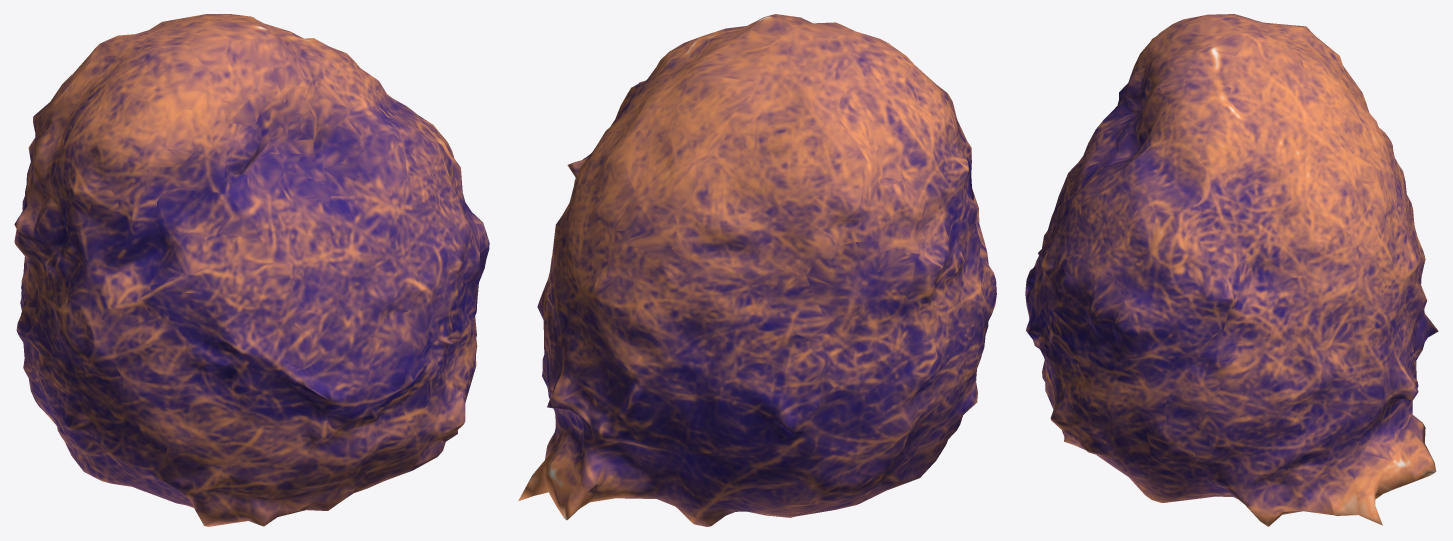
File: oeuf2.fbx
3 views of the same model, side by side, from view 1: azimuth 30°, elevation 25°; view 2: azimuth 150°, elevation 25°; view 3: azimuth 270°, elevation 25° (orthographic). The views are drawn at different scales.
Parts seen in each view (by area): view 1: Réduction_de_polygones; view 2: Réduction_de_polygones; view 3: Réduction_de_polygones.
Part boxes in pixels (x1,y1,x2,y2): Réduction_de_polygones: (14, 14, 489, 526); Réduction_de_polygones: (518, 14, 996, 526); Réduction_de_polygones: (1025, 14, 1438, 526).
Size of the model in its own units: 6.98 by 7.9 by 6.93.
1 material, 1 textured.
